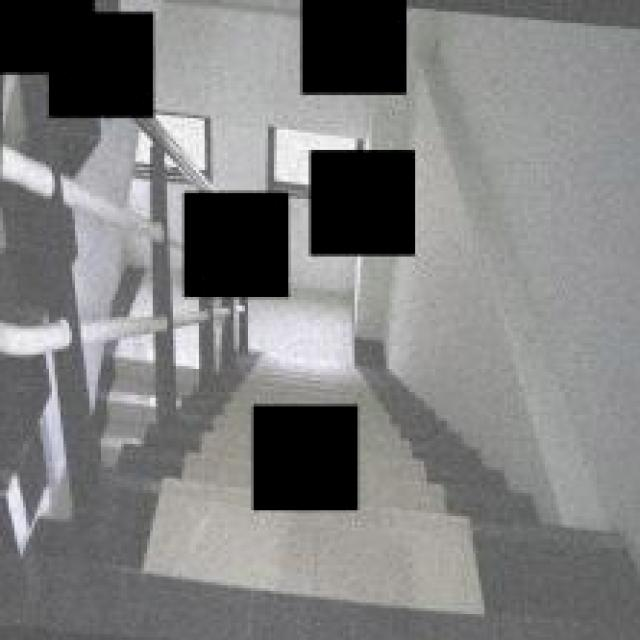downstair: (367, 399, 511, 640)
